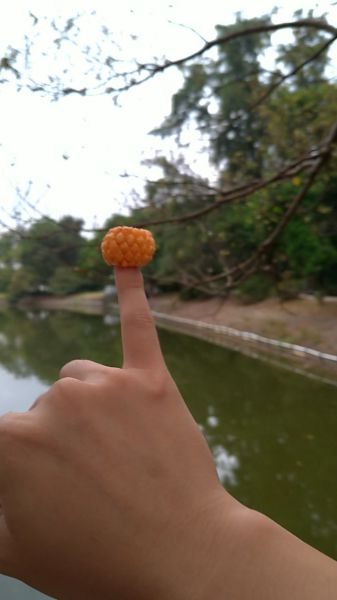eggs: (99, 225, 155, 268)
